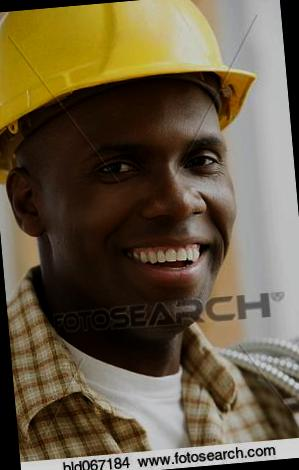helmet: (0, 0, 284, 159)
person: (0, 0, 290, 463)
